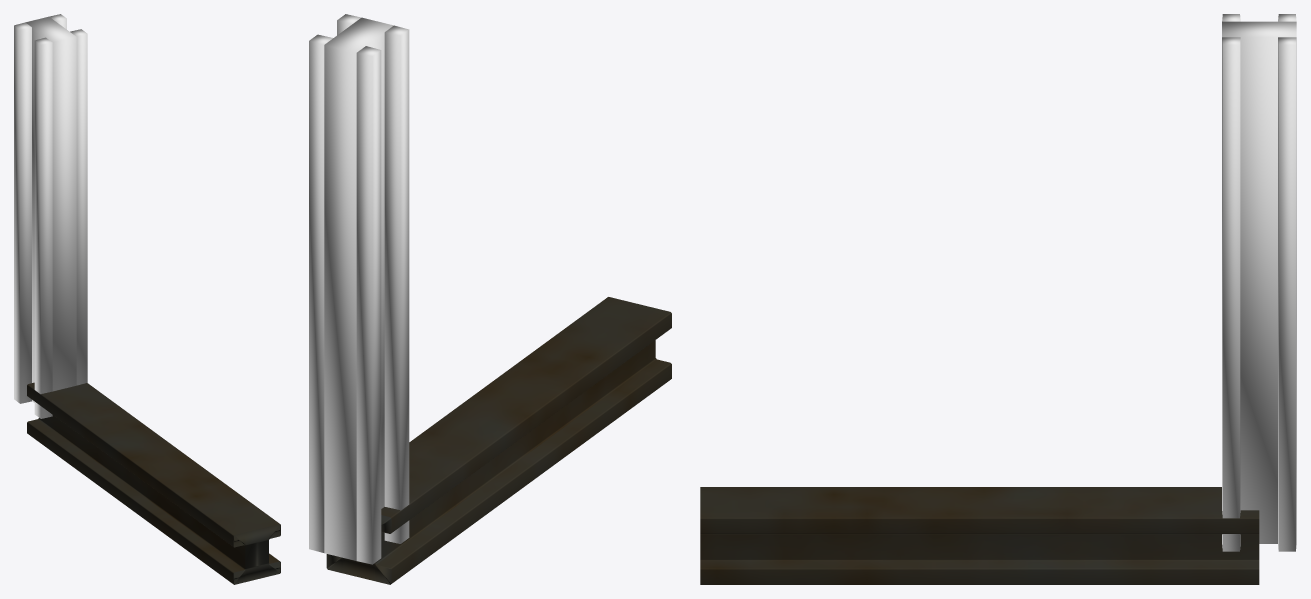
File: SM_Beam_Small.fbx
The picture shows the model from 3 angles, left to right: view 1: azimuth 30°, elevation 25°; view 2: azimuth 150°, elevation 25°; view 3: azimuth 270°, elevation 25°; orthographic projection. The views are drawn at different scales.
Parts seen in each view (by area): view 1: SM_Beam_Small_ConvexHulls, SM_Beam_Small; view 2: SM_Beam_Small_ConvexHulls, SM_Beam_Small; view 3: SM_Beam_Small, SM_Beam_Small_ConvexHulls.
Part boxes in pixels (box(x1,y1,x2,y2)): SM_Beam_Small_ConvexHulls: box(14, 14, 87, 418); SM_Beam_Small: box(27, 382, 280, 584); SM_Beam_Small_ConvexHulls: box(309, 14, 409, 564); SM_Beam_Small: box(326, 297, 671, 584); SM_Beam_Small: box(700, 487, 1259, 584); SM_Beam_Small_ConvexHulls: box(1222, 14, 1296, 551).
Size of the model in its own units: 0.2 by 1.6 by 1.6.
